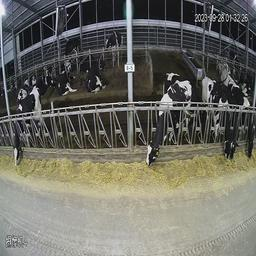cow: (146, 79, 193, 168), (168, 68, 207, 138), (200, 74, 231, 162), (224, 78, 255, 161), (13, 87, 45, 166), (217, 78, 237, 160), (85, 59, 107, 94), (16, 76, 36, 111), (105, 31, 124, 62), (57, 68, 77, 97), (36, 73, 55, 98), (63, 39, 79, 65)
